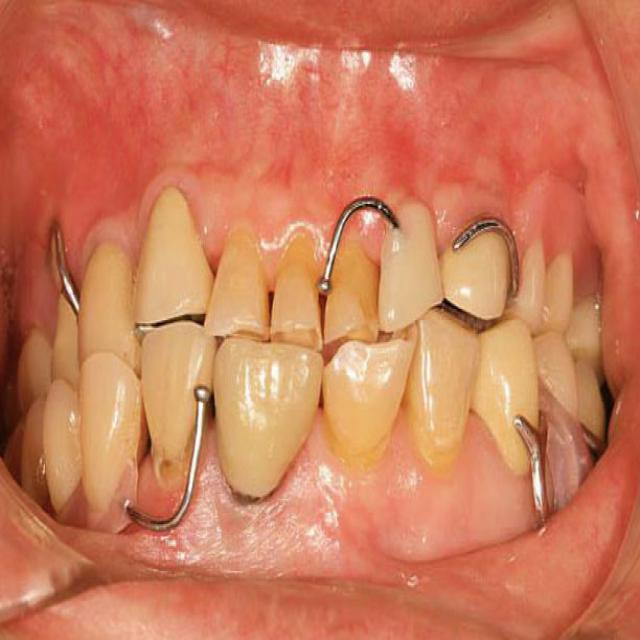caries: (144, 421, 190, 492)
